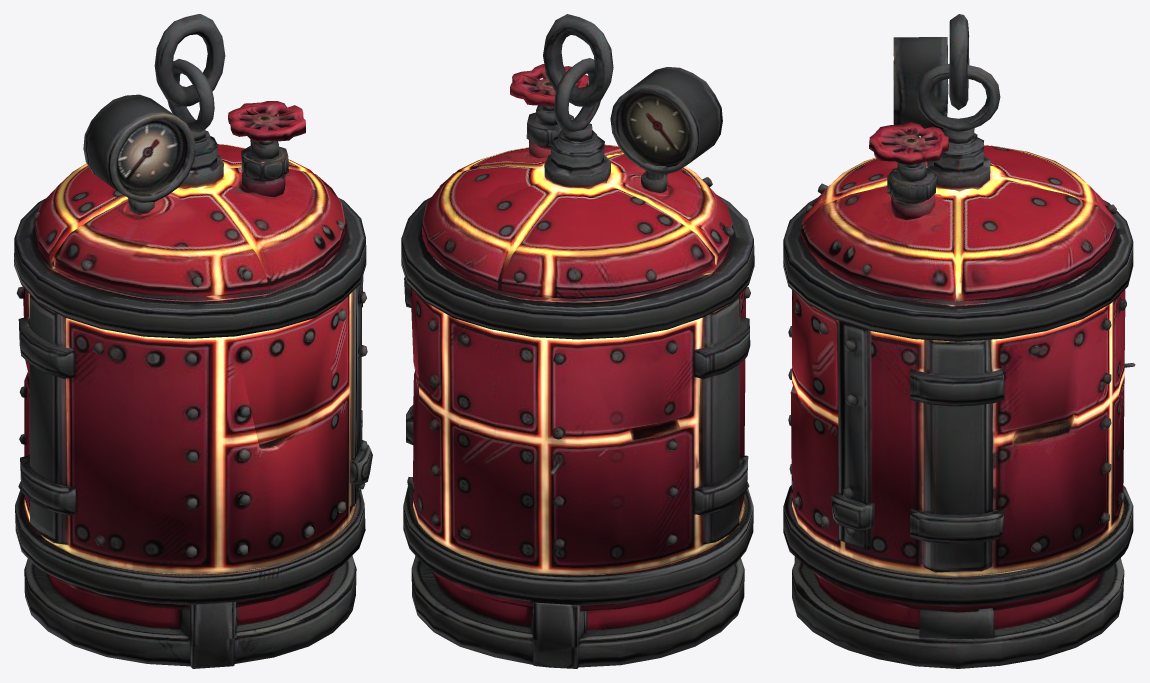
File: pressure_vessel.glb
The picture shows the model from 3 angles, left to right: view 1: azimuth 30°, elevation 25°; view 2: azimuth 150°, elevation 25°; view 3: azimuth 270°, elevation 25°; orthographic projection.
Bounding box in the file's own units: 0.584 × 1 × 0.5508.
Materials: 1 (1 with a texture image).
